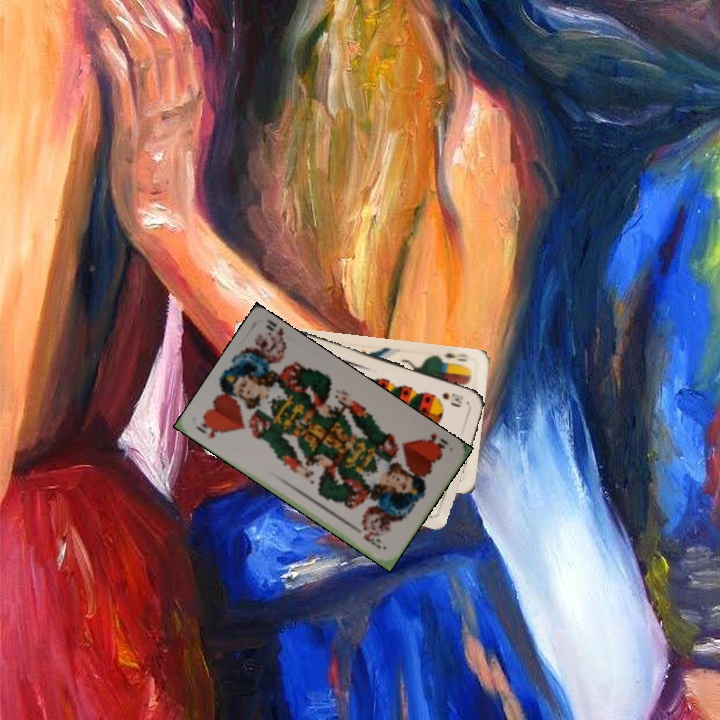EO: (434, 349, 472, 369)
HO: (416, 429, 451, 456), (191, 419, 221, 442)
S10: (438, 388, 466, 407)
